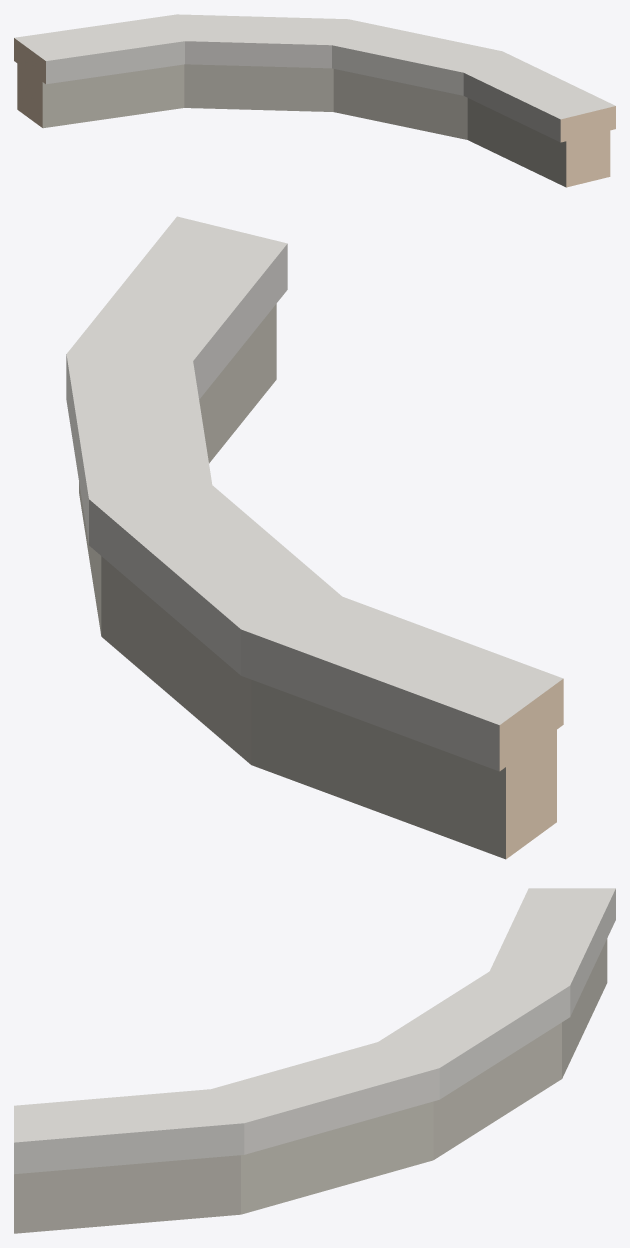
Rendered from Tiered_Retaining_Wall_Flat_Curve_2x2_Top.glb.
3 renders of one model, top to bottom at view 1: azimuth 30°, elevation 25°; view 2: azimuth 150°, elevation 25°; view 3: azimuth 270°, elevation 25°, orthographic. The views are drawn at different scales.
Parts seen in each view (by area): view 1: Tiered_Retaining_Wall_Flat_Curve_2x2_Top; view 2: Tiered_Retaining_Wall_Flat_Curve_2x2_Top; view 3: Tiered_Retaining_Wall_Flat_Curve_2x2_Top.
Part boxes in pixels (x1,y1,x2,y2): Tiered_Retaining_Wall_Flat_Curve_2x2_Top: (14,14,615,187); Tiered_Retaining_Wall_Flat_Curve_2x2_Top: (66,216,563,859); Tiered_Retaining_Wall_Flat_Curve_2x2_Top: (14,888,615,1233).
Size of the model in its own units: 216 by 37.5 by 216.
